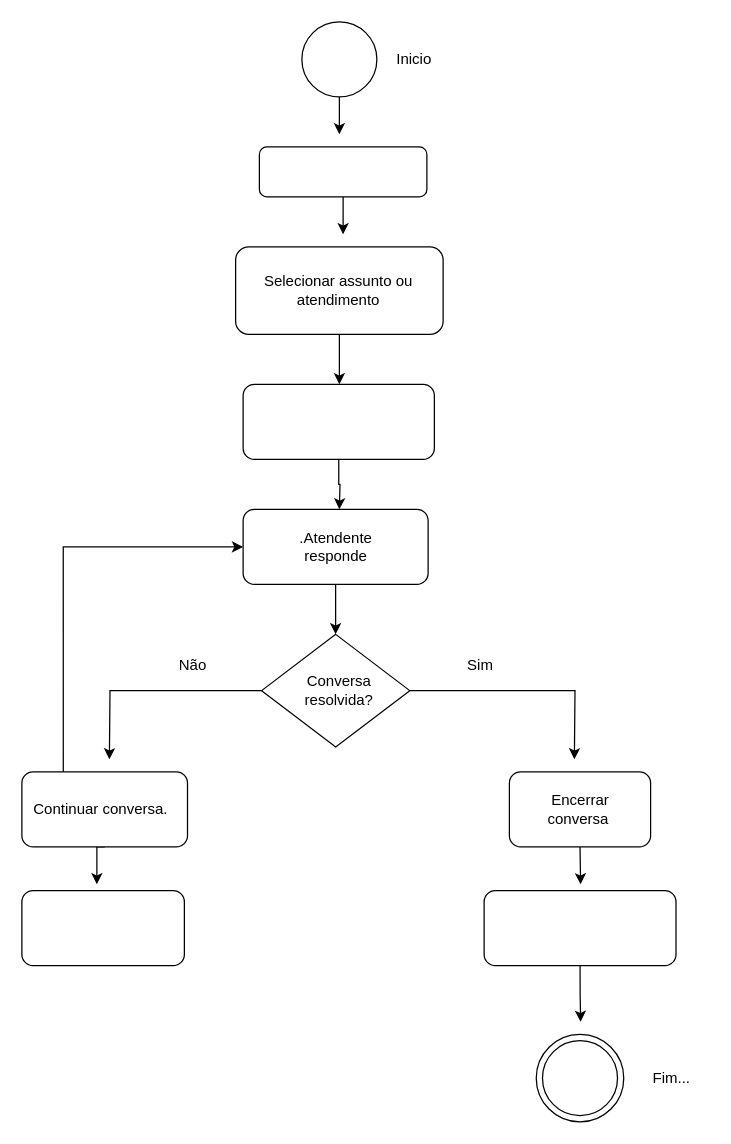
This 731x1144 diagram has some shape labels left out. Here are the shapes that lost their labels. From the top down, the centre of each, then its label:
At pixel 342 171: "Abrir Chat".
At pixel 102 927: "'Atendente responde.".
At pixel 579 927: "Avaliar atendimento.".
